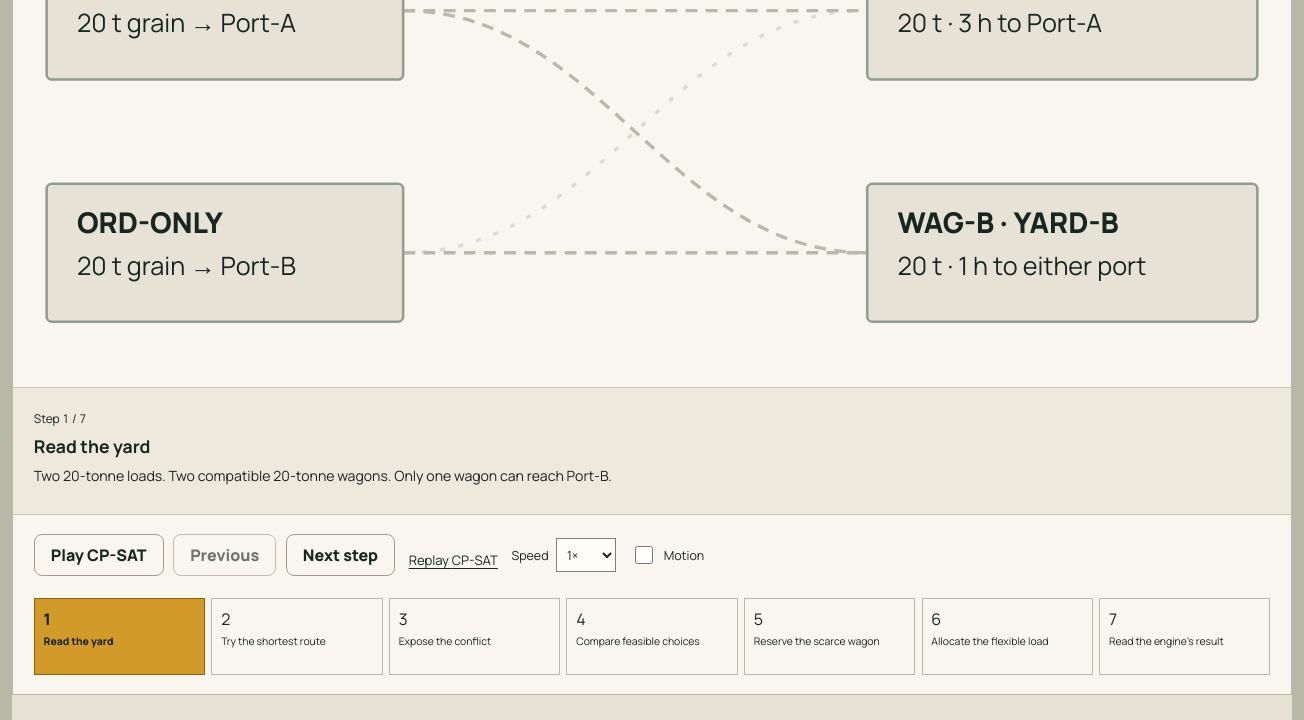
Test: respects reduced motion while keeping manual steps available
The width and height of the screenshot is (1304, 720).
(page scrolled)
Expected: the checkbox labelled "Motion" is not checked, [636, 546, 654, 564]
Expected: the button "Play CP-SAT" is shown, [34, 534, 164, 576]
Click the button with aria-label "Next CP-SAT step". click: point(340, 555)
box: [286, 534, 395, 576]
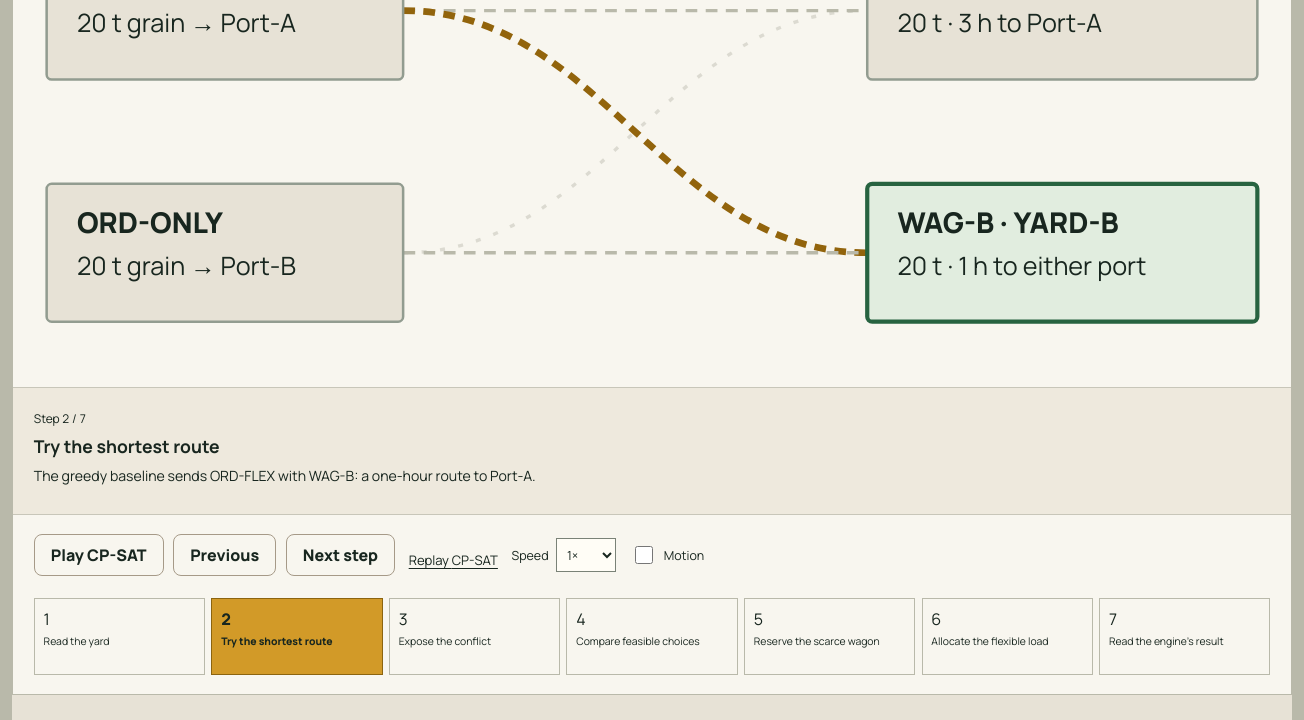
Expected: the heading "Try the shortest route" is shown, [34, 434, 220, 458]
